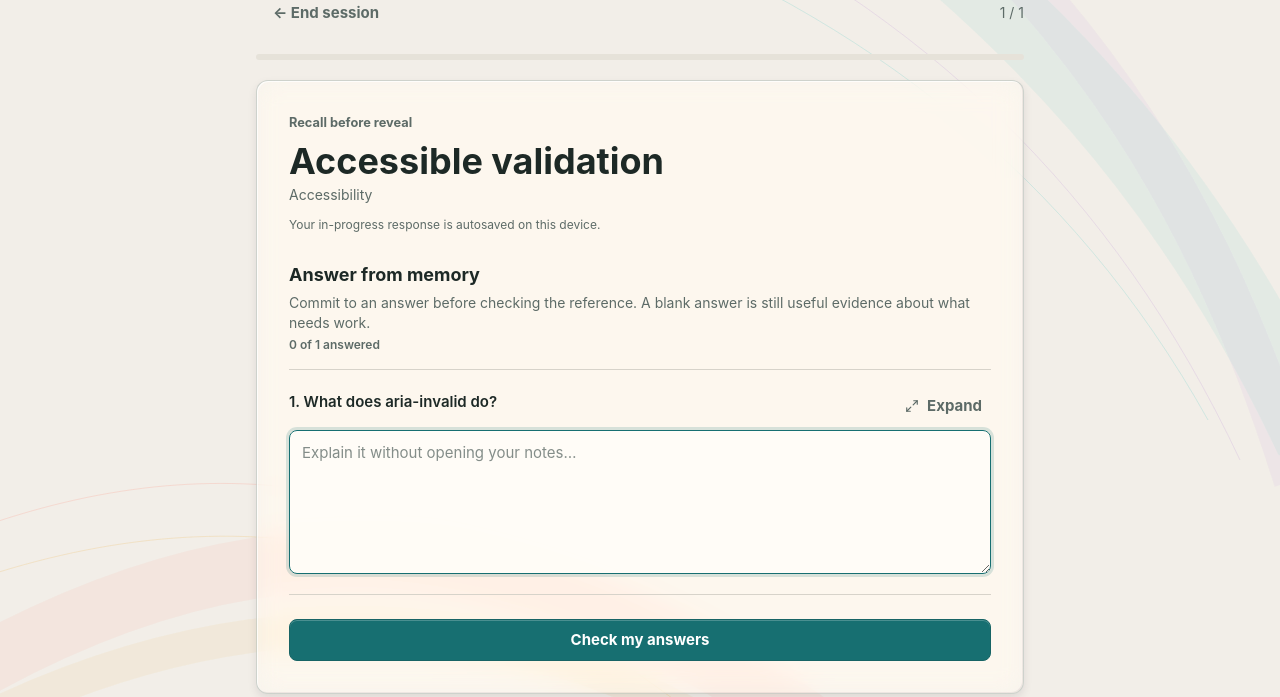
Test: ReviewSession structured recall › surfaces validation details and offers recovery for stale sessions
Click the button "Check my answers" at (640, 640), box [289,619,991,661]
(page scrolled)
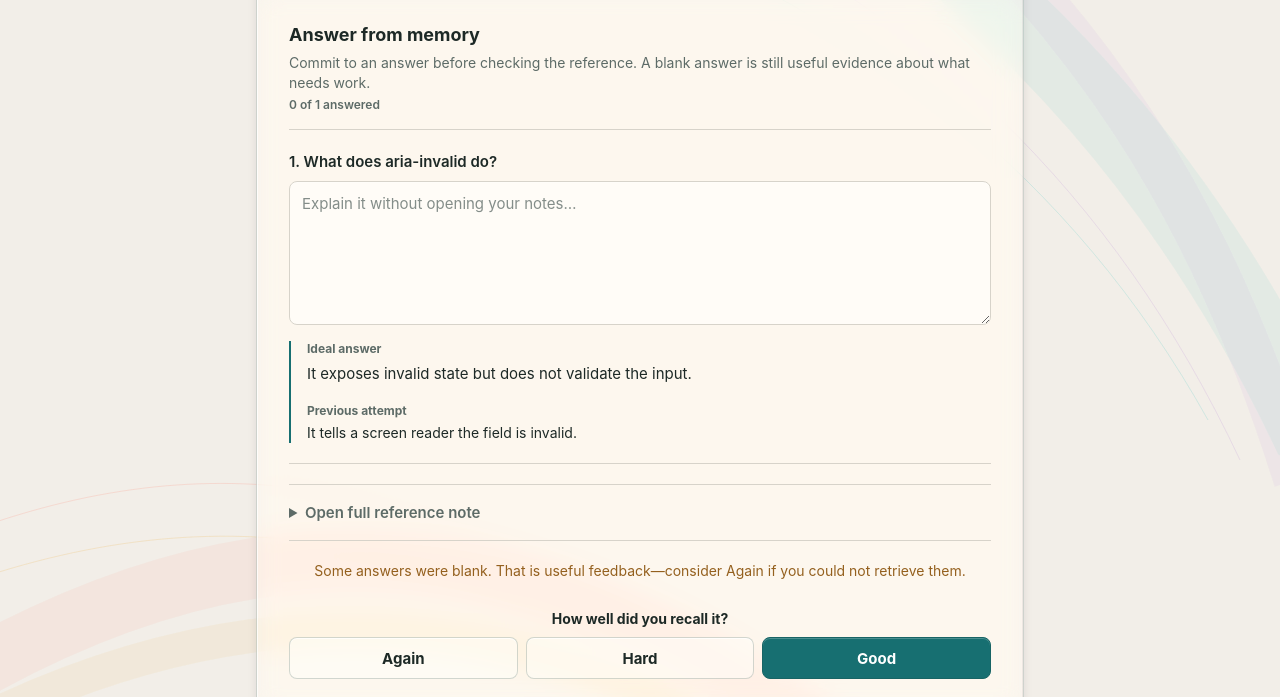
Click the button "good" at (877, 658), box [762,637,991,679]
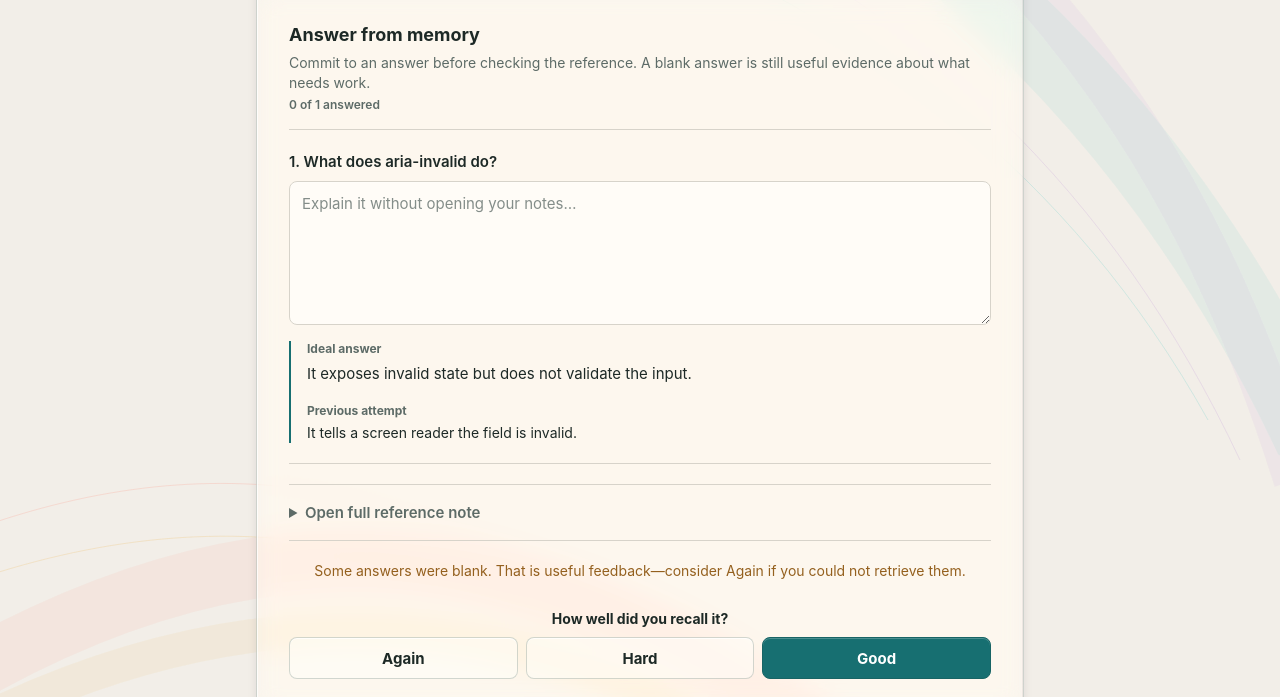
Click the button "good" at (877, 658), box [762,637,991,679]
(page scrolled)
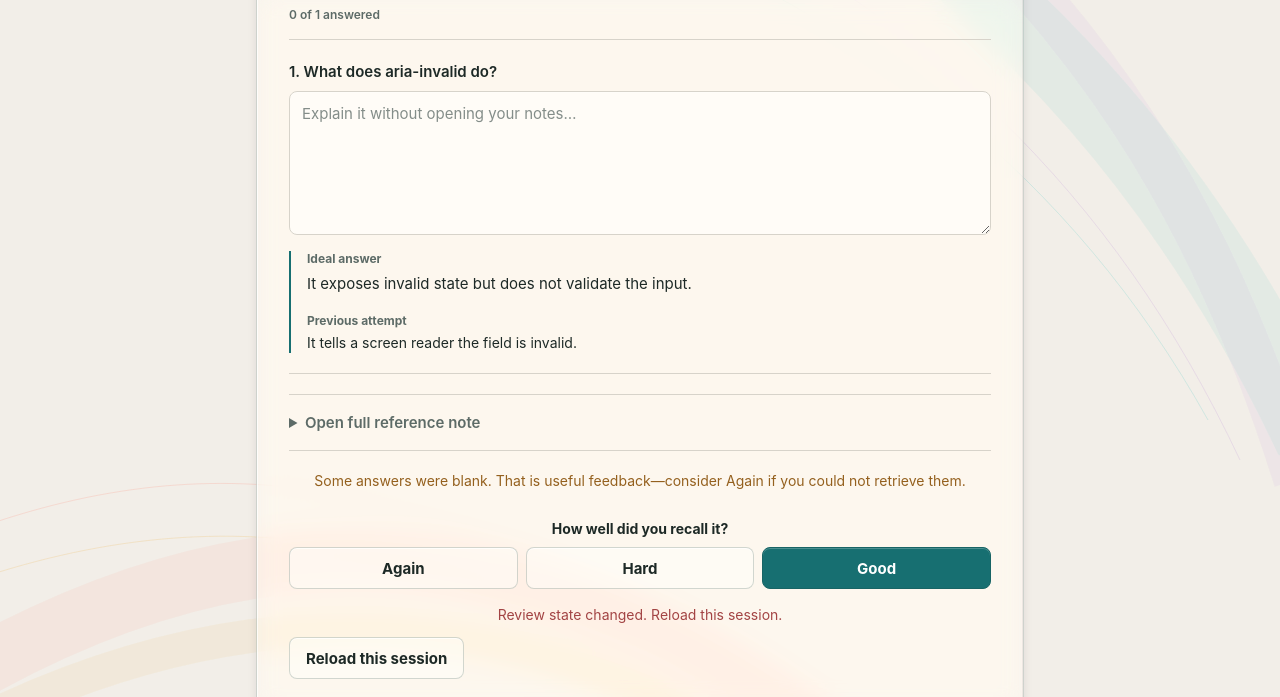
Result: the button "Reload this session" is shown at [289,637,464,679]
Result: the message shows "Review state changed." at [498,606,782,623]
